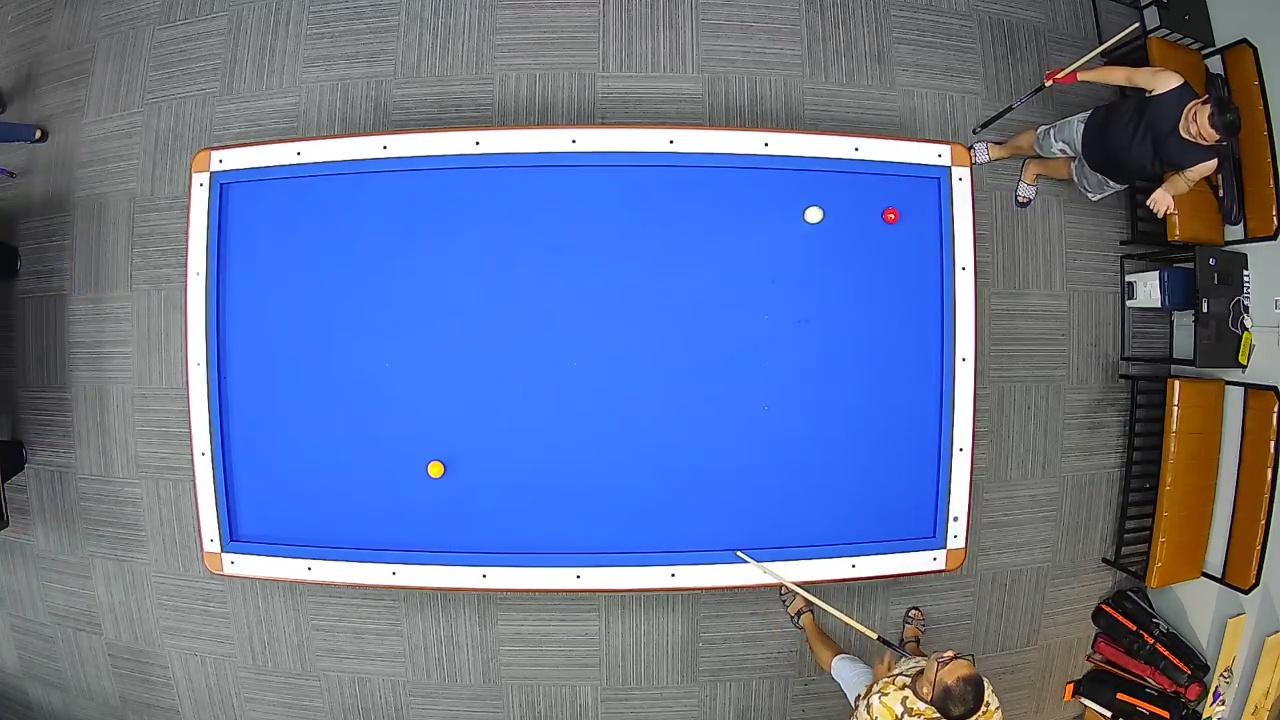Red: (881, 206, 901, 224)
White: (802, 202, 826, 226)
Yellow: (427, 459, 448, 480)
